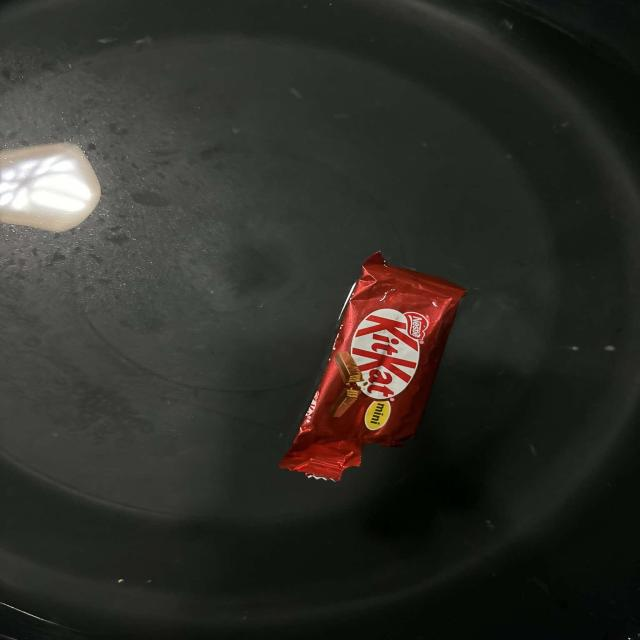Plastic Wrapper: (280, 252, 465, 480)
